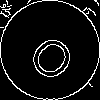O: (25, 25, 85, 85)
